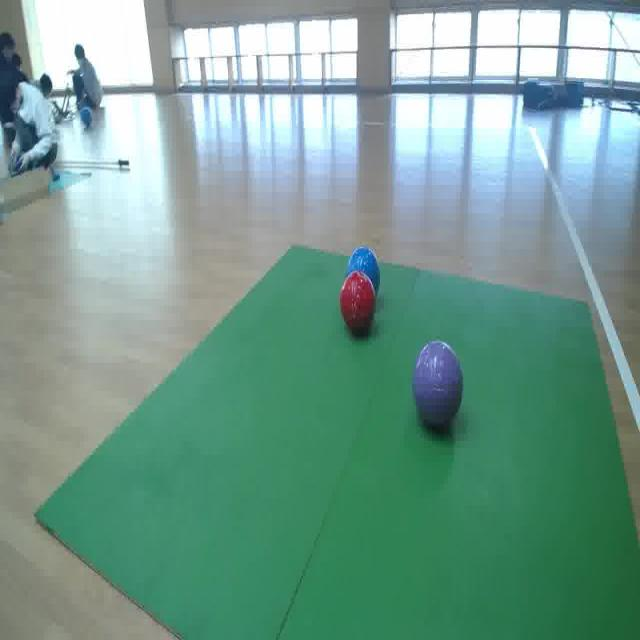blue_ball: (349, 249, 379, 291)
purple_ball: (416, 344, 464, 429)
red_ball: (342, 276, 376, 334)
